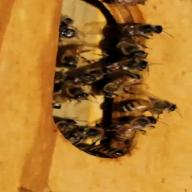Bee: (60, 117, 120, 148), (104, 14, 168, 39), (110, 94, 177, 116)
